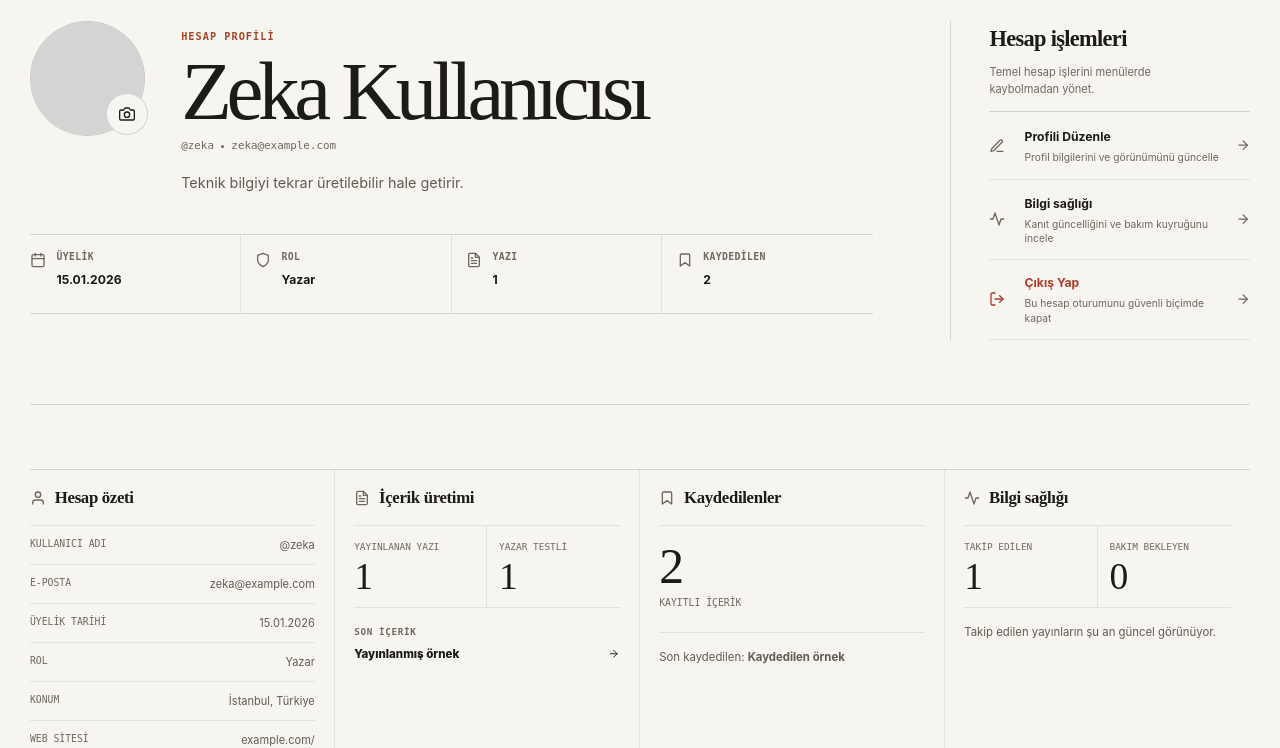
ProfilePage › renders the account dashboard with real navigation and opens the focused edit workspace
The width and height of the screenshot is (1280, 748).
Expected: the heading "Zeka Kullanıcısı" is shown, [181,55,680,128]
Expected: the text "Hesap profili" is shown, [181,30,275,42]
Click the button "Profili Düzenle Profil bilgilerini ve görünümünü güncelle": (1068, 136) [989,112,1250,180]
(page scrolled)
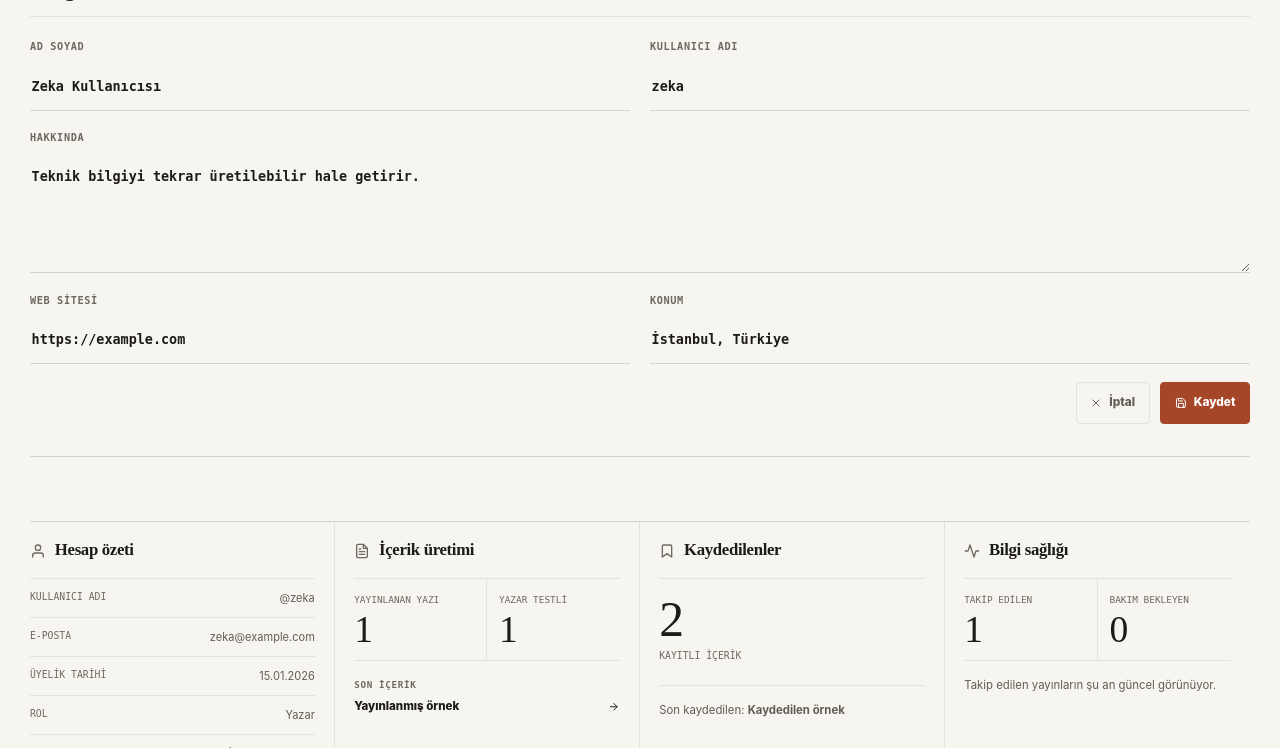
Result: the field named "full_name" holds "Zeka Kullanıcısı" at [30,62,630,111]
Result: the text box named "bio" holds "Teknik bilgiyi tekrar üretilebilir hale getirir." at [30,153,1250,273]
Result: the button "Kaydet" is shown at [1160,382,1250,424]
